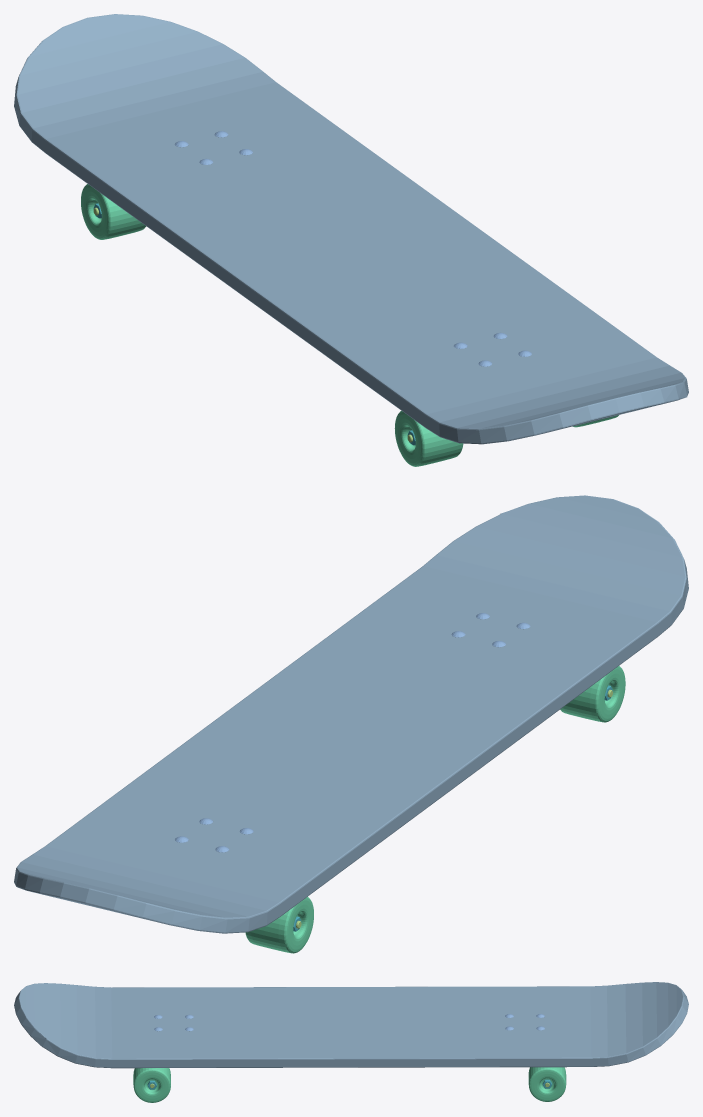
File: Skatboard.fbx
The picture shows the model from 3 angles, top to bottom: view 1: azimuth 30°, elevation 25°; view 2: azimuth 150°, elevation 25°; view 3: azimuth 270°, elevation 25°; orthographic projection. The views are drawn at different scales.
Visible parts, largest first — view 1: Rectangle1, Tube07, Tube09; view 2: Rectangle1, Tube09, Tube07; view 3: Rectangle1, Tube08, Tube06.
Part boxes in pixels (x1=…): Rectangle1: x1=14, y1=14, x2=688, y2=444; Tube07: x1=394, y1=411, x2=463, y2=466; Tube09: x1=81, y1=184, x2=146, y2=239; Rectangle1: x1=14, y1=495, x2=688, y2=933; Tube09: x1=245, y1=896, x2=313, y2=953; Tube07: x1=560, y1=666, x2=625, y2=722; Rectangle1: x1=14, y1=982, x2=688, y2=1068; Tube08: x1=528, y1=1067, x2=566, y2=1101; Tube06: x1=133, y1=1068, x2=170, y2=1102.
Size of the model in its own units: 0.8006 by 0.3837 by 3.12.
